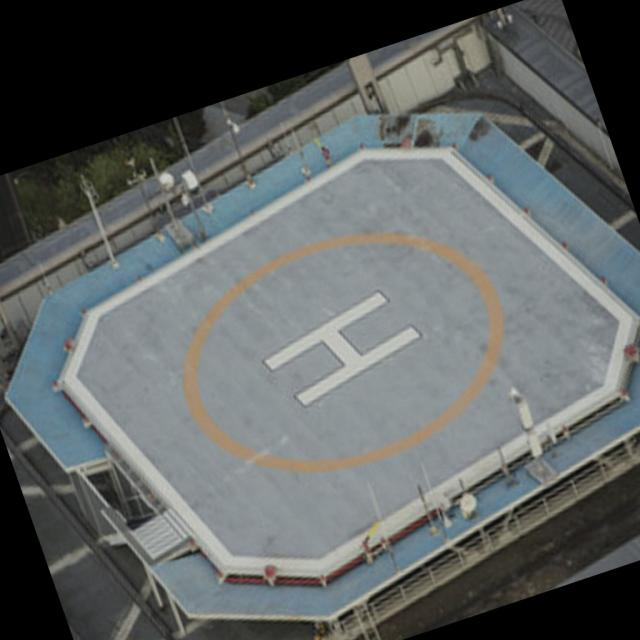helipad: (178, 226, 507, 478)
